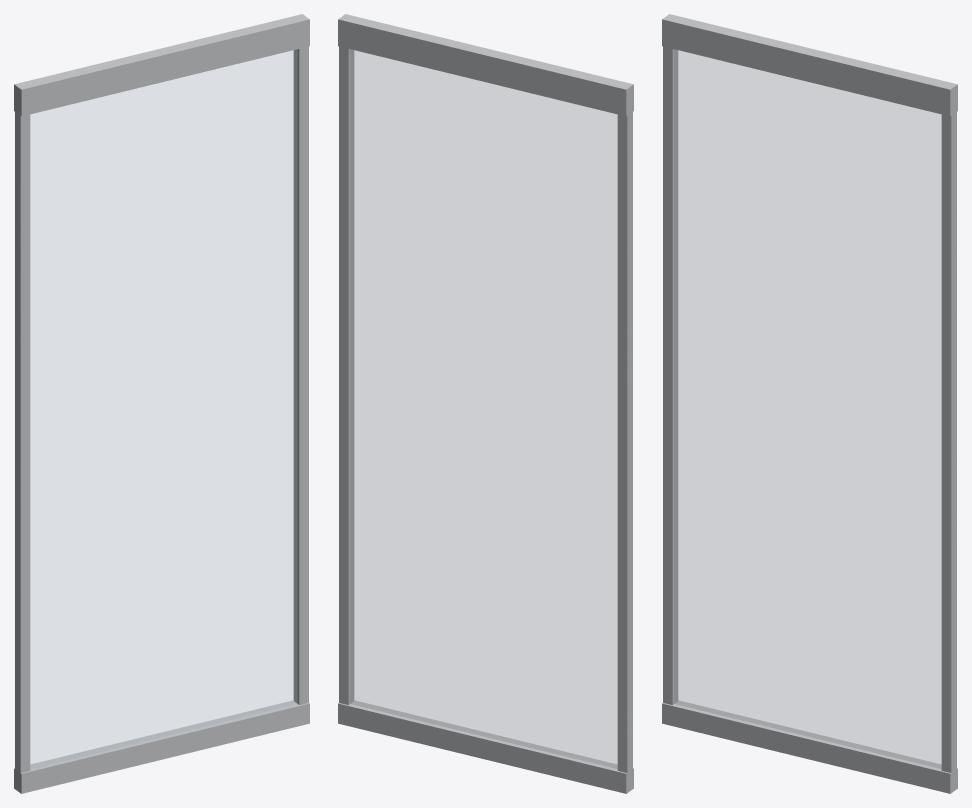
The model's file is mlo_door_sliding_shop.glb.
The picture shows the model from 3 angles, left to right: view 1: azimuth 30°, elevation 25°; view 2: azimuth 150°, elevation 25°; view 3: azimuth 330°, elevation 25°; orthographic projection.
Visible parts, largest first — view 1: Door_Sliding_Shop; view 2: Door_Sliding_Shop; view 3: Door_Sliding_Shop.
Boxes of the visible parts, x1,y1,x2,y2 form: Door_Sliding_Shop: [14, 14, 309, 793]; Door_Sliding_Shop: [338, 14, 633, 793]; Door_Sliding_Shop: [662, 14, 957, 793].
Size of the model in its own units: 0.9 by 2.1 by 0.04.
